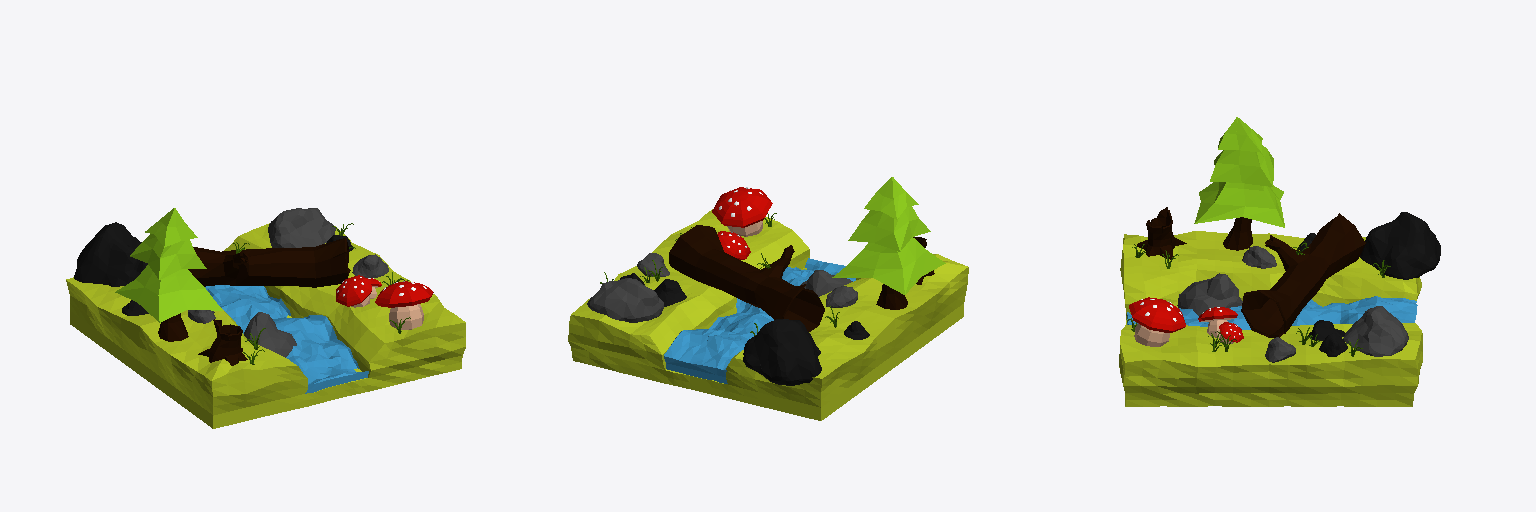
The model's file is ENFOR_EEVEE.obj.
The picture shows the model from 3 angles: view 1: azimuth 30°, elevation 25°; view 2: azimuth 150°, elevation 25°; view 3: azimuth 270°, elevation 25°; orthographic projection.
Parts seen in each view (by area): view 1: Plane, Tree_02_Cube.002, Plane.002, Trunk_Cylinder, Stone02_Icosphere.008, Stone01_Icosphere.007, Mushroom_Cylinder.002, Stone4_Icosphere.012, Bough_Cylinder.001, Mushroom.003_Cylinder.005, Stone03.001_Icosphere.011; view 2: Plane, Tree_02_Cube.002, Trunk_Cylinder, Plane.002, Stone02_Icosphere.008, Stone01_Icosphere.007, Mushroom_Cylinder.002, Stone4_Icosphere.012, Mushroom.003_Cylinder.005, Stone03_Icosphere.009, Stone01.001_Icosphere.014; view 3: Plane, Tree_02_Cube.002, Trunk_Cylinder, Stone02_Icosphere.008, Plane.002, Stone01_Icosphere.007, Mushroom_Cylinder.002, Stone4_Icosphere.012, Bough_Cylinder.001, Mushroom.003_Cylinder.005, Stone01.001_Icosphere.014, Stone03.001_Icosphere.011.
Part boxes in pixels (x1,y1,x2,y2): Plane: (66,223,465,428); Tree_02_Cube.002: (115,208,222,341); Plane.002: (205,285,368,393); Trunk_Cylinder: (188,238,350,287); Stone02_Icosphere.008: (74,222,147,286); Stone01_Icosphere.007: (268,208,335,247); Mushroom_Cylinder.002: (375,281,433,329); Stone4_Icosphere.012: (244,312,296,357); Bough_Cylinder.001: (198,319,247,365); Mushroom.003_Cylinder.005: (336,275,371,307); Stone03.001_Icosphere.011: (352,254,388,277); Plane: (568,209,968,420); Tree_02_Cube.002: (832,177,945,309); Trunk_Cylinder: (669,225,824,331); Plane.002: (664,258,855,383); Stone02_Icosphere.008: (743,319,821,385); Stone01_Icosphere.007: (587,278,663,322); Mushroom_Cylinder.002: (712,187,772,236); Stone4_Icosphere.012: (800,270,852,296); Mushroom.003_Cylinder.005: (717,231,750,259); Stone03_Icosphere.009: (654,279,686,306); Stone01.001_Icosphere.014: (826,286,857,307); Plane: (1119,231,1422,406); Tree_02_Cube.002: (1194,117,1284,250); Trunk_Cylinder: (1241,213,1365,337); Stone02_Icosphere.008: (1360,212,1440,279); Plane.002: (1127,296,1417,329); Stone01_Icosphere.007: (1343,306,1408,356); Mushroom_Cylinder.002: (1129,297,1185,346); Stone4_Icosphere.012: (1177,273,1242,315); Bough_Cylinder.001: (1137,207,1186,259); Mushroom.003_Cylinder.005: (1198,307,1237,337); Stone01.001_Icosphere.014: (1242,246,1276,268); Stone03.001_Icosphere.011: (1265,337,1295,362).
Bounding box in the file's own units: 33.7 × 20.43 × 33.86.